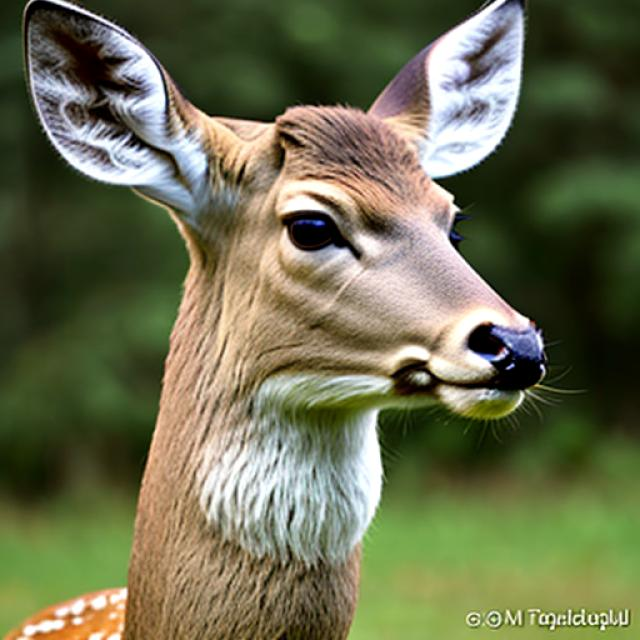deer: (16, 0, 532, 638)
